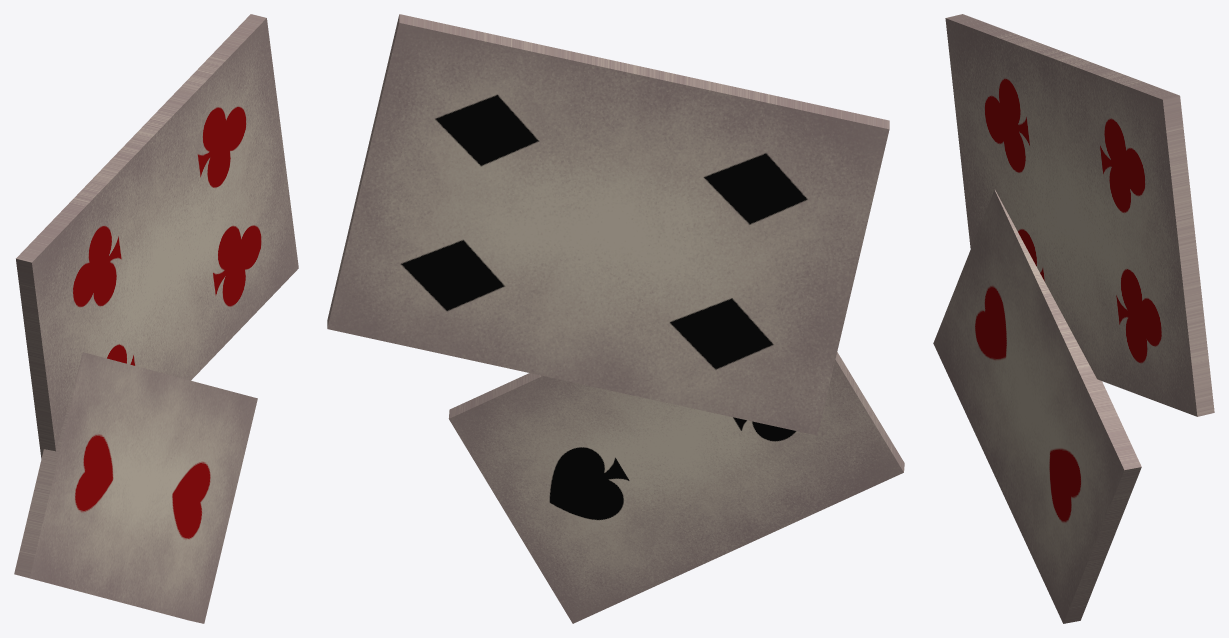
Rendered from FlowtEnemyArmL.fbx.
3 views of the same model, side by side, from view 1: azimuth 30°, elevation 25°; view 2: azimuth 150°, elevation 25°; view 3: azimuth 270°, elevation 25° (orthographic). The views are drawn at different scales.
Visible parts, largest first — view 1: polySurface640; view 2: polySurface640; view 3: polySurface640.
Boxes of the visible parts, bbox=[...] form: polySurface640: bbox=[14, 14, 298, 623]; polySurface640: bbox=[327, 14, 904, 623]; polySurface640: bbox=[933, 14, 1214, 623].
Bounding box in the file's own units: 0.7058 × 0.9191 × 0.4028.
Materials: 4 (4 with a texture image).
